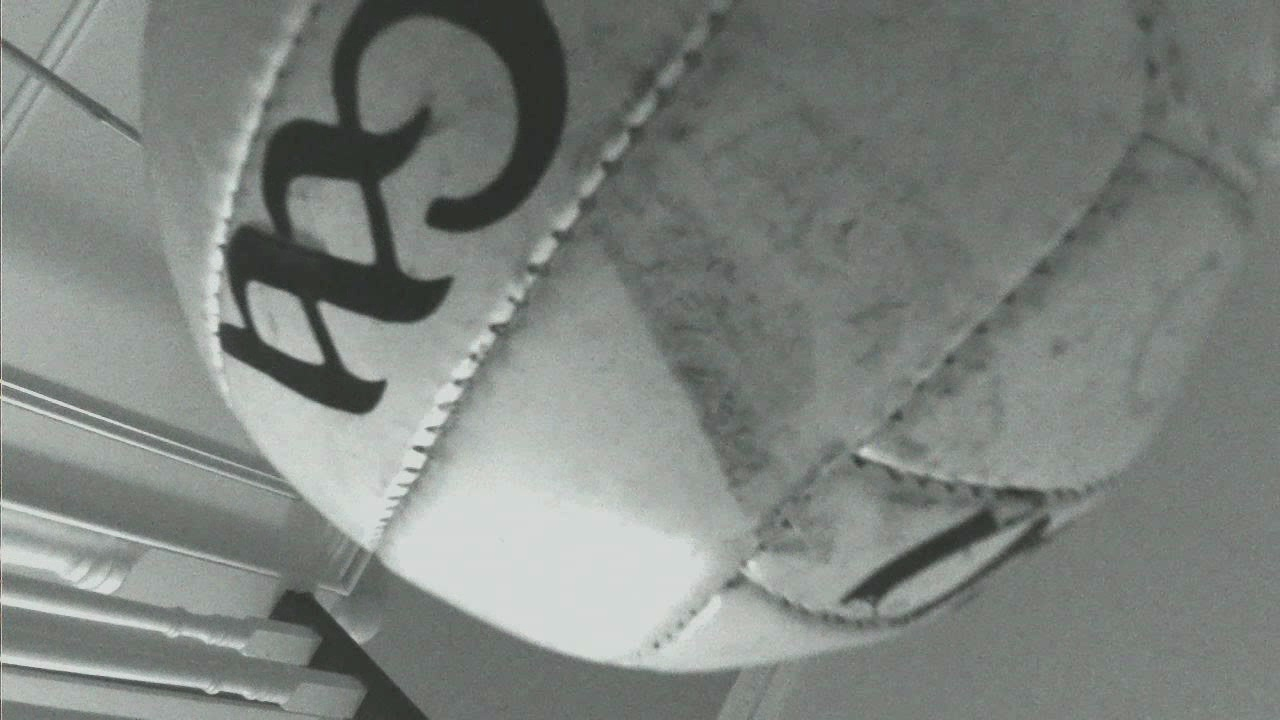Football-Spotter: (143, 0, 1279, 670)
